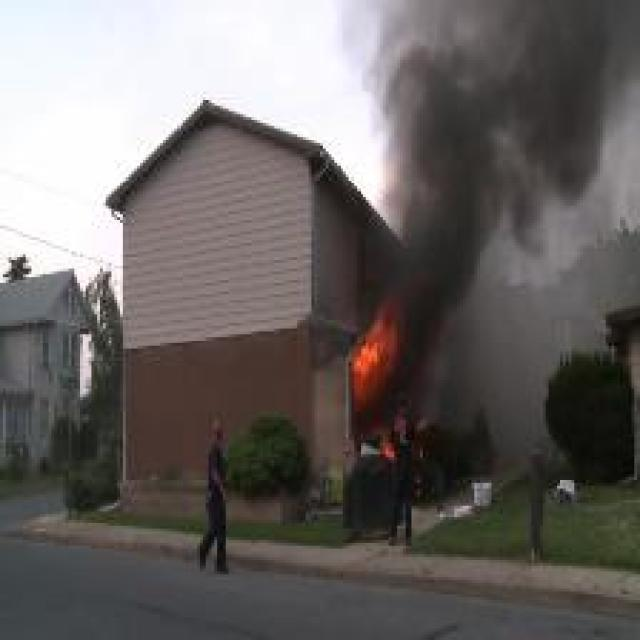Fire: (350, 330, 388, 398)
Smoke: (356, 0, 638, 303)
